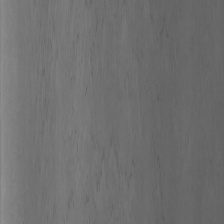silk_spot: (45, 8, 134, 220)
